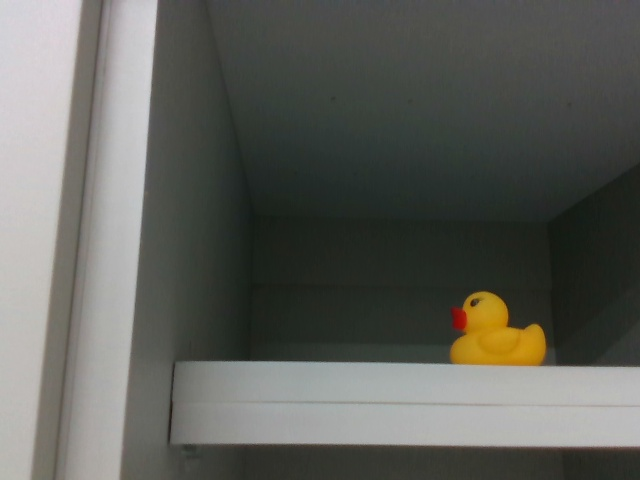duck: (441, 288, 551, 371)
